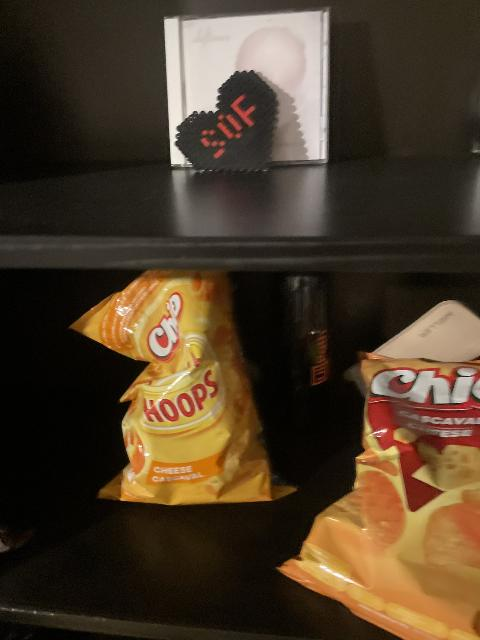Chio Cascaval 125g: (279, 342, 477, 640)
Chio Hula Hoops Cheese 70g: (69, 277, 293, 505)
